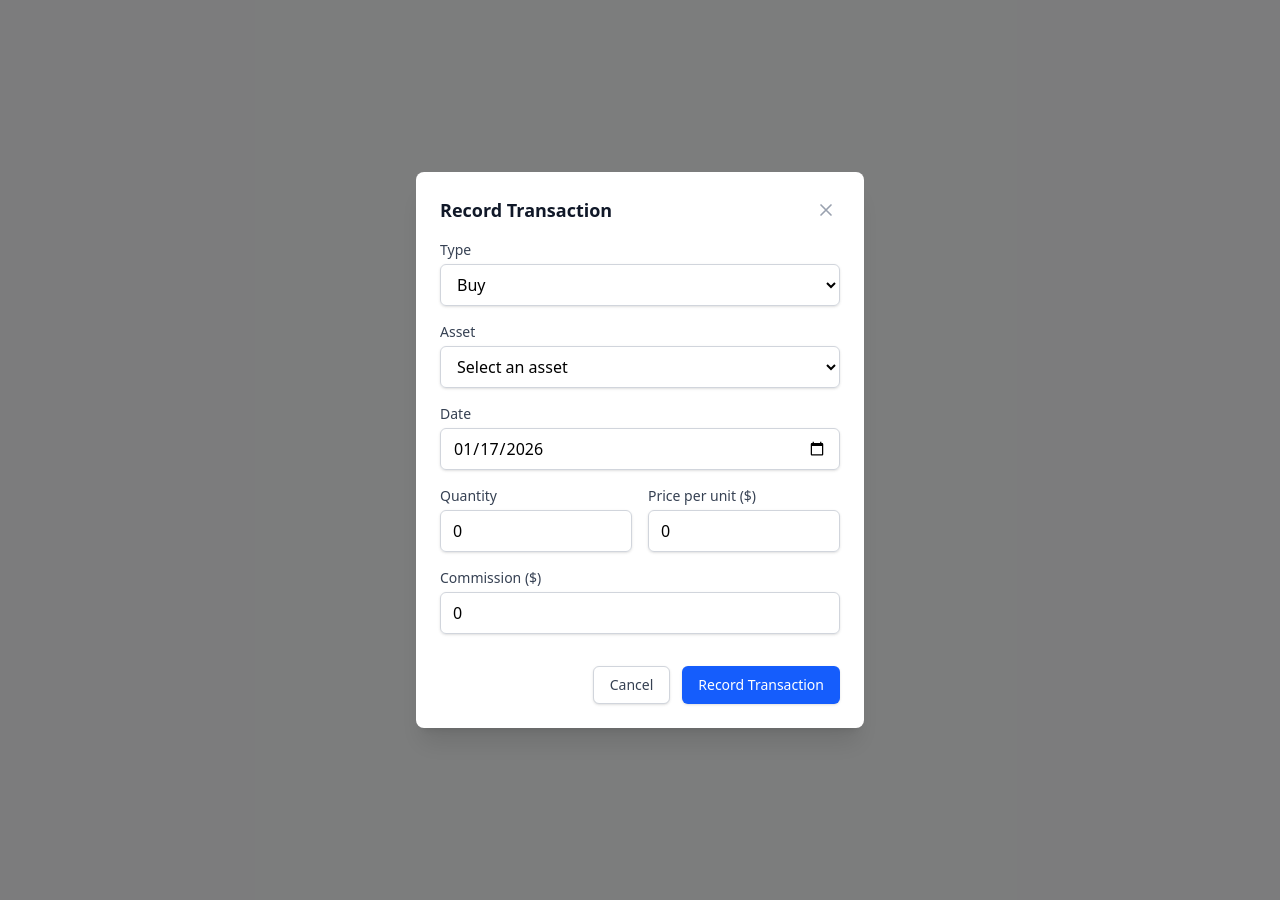
Test: CreateTransactionModal › should show error message on failed submission
The width and height of the screenshot is (1280, 900).
Step 1. Select "Sell" in the dropdown labelled "Type" → (640, 285), box x1=440 y1=264 x2=840 y2=306
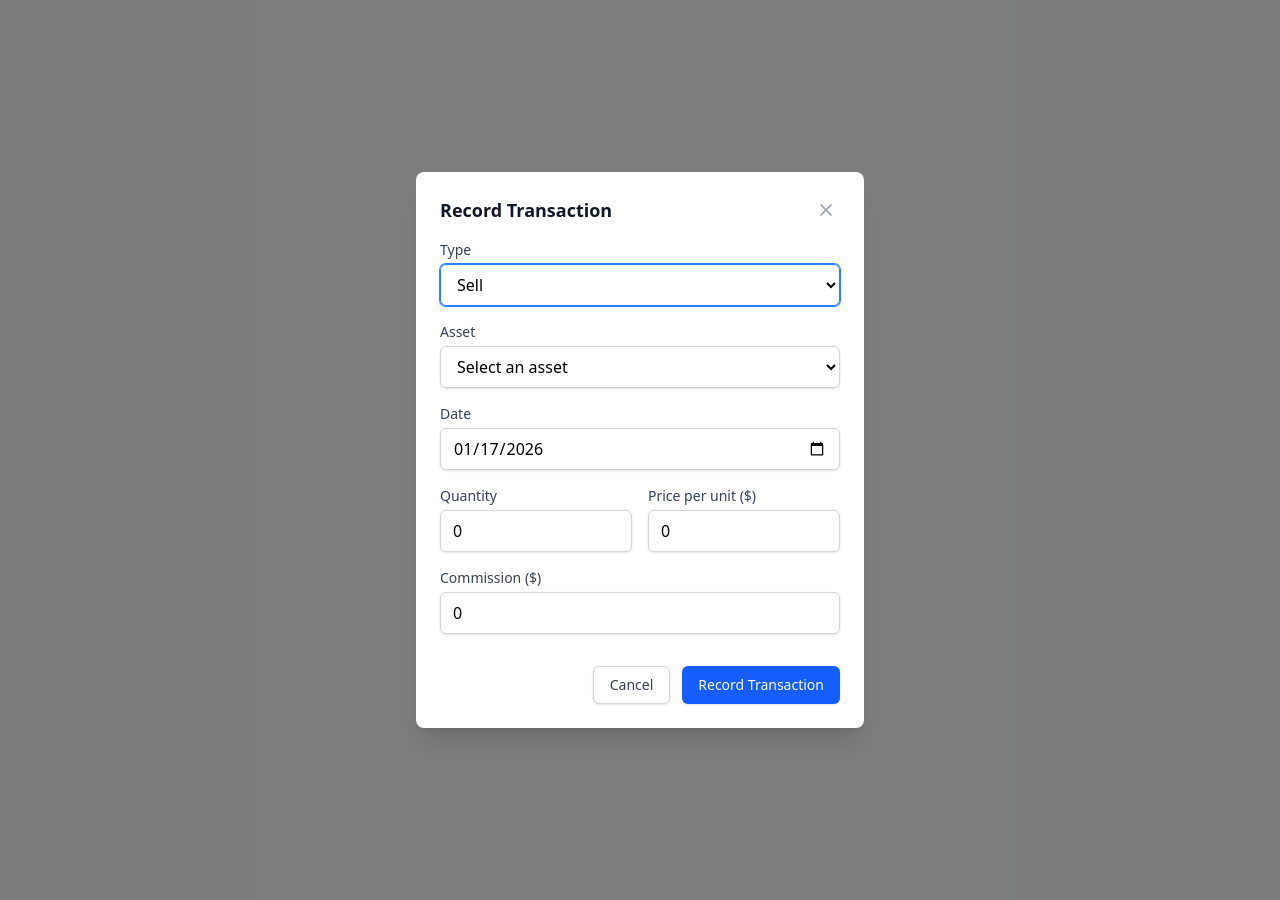
Step 2. Select "VOO - Vanguard S&P 500 ETF" in the dropdown labelled "Asset" → (640, 367), box x1=440 y1=346 x2=840 y2=388
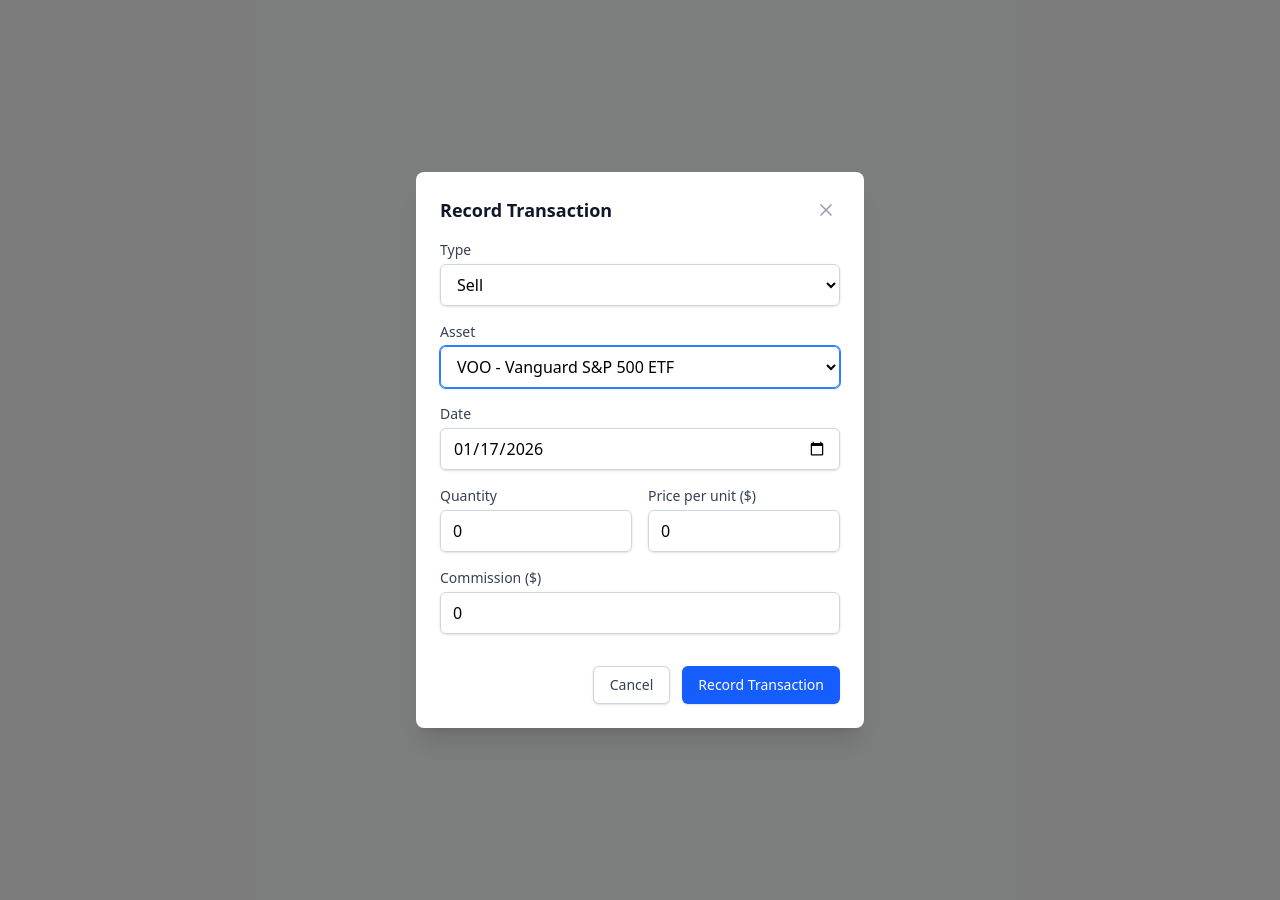
Step 3. Replace the text in the number field labelled "Quantity" with "1000" → (536, 531), box x1=440 y1=510 x2=632 y2=552
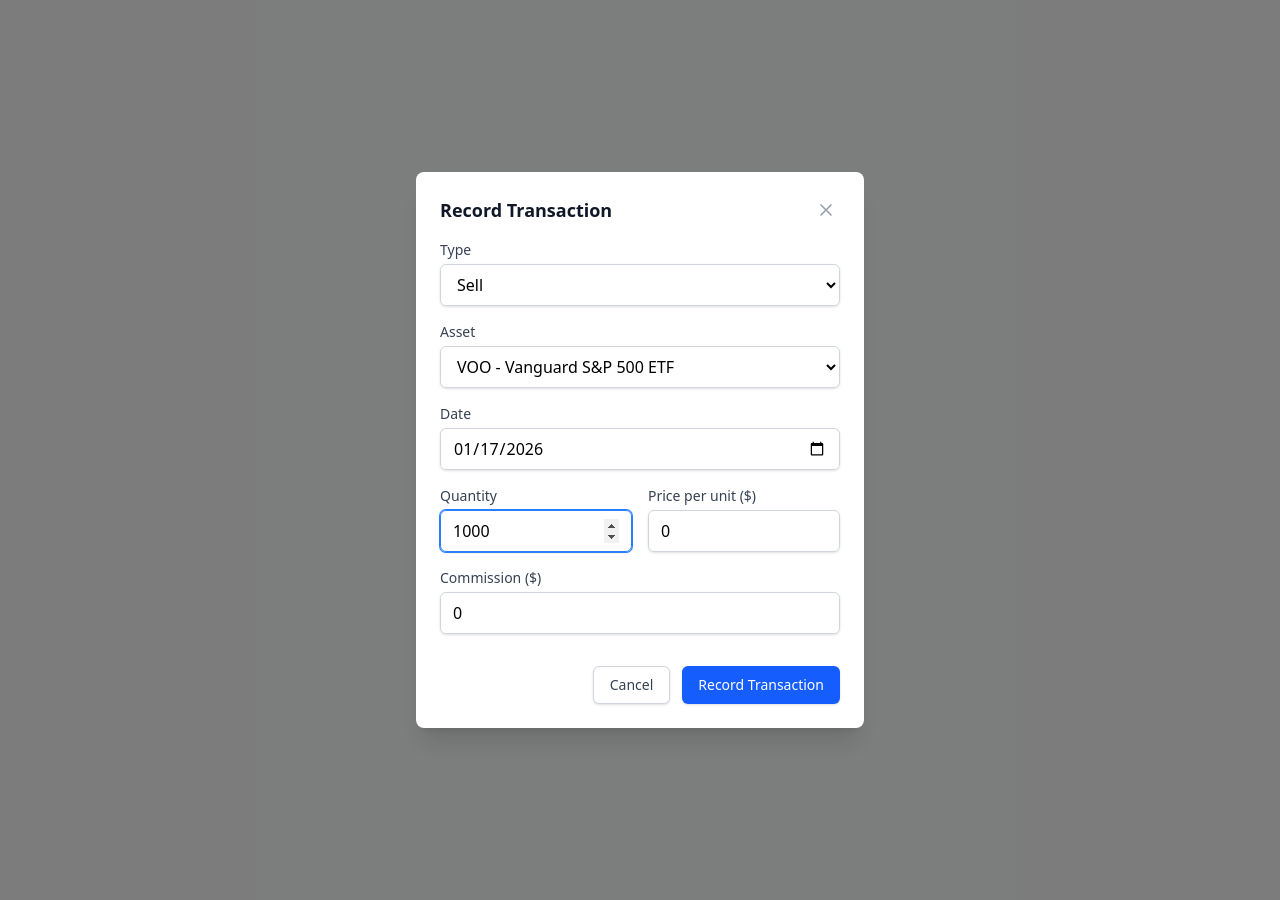
Step 4. Replace the text in the number field labelled "Price per unit ($)" with "150" → (744, 531), box x1=648 y1=510 x2=840 y2=552
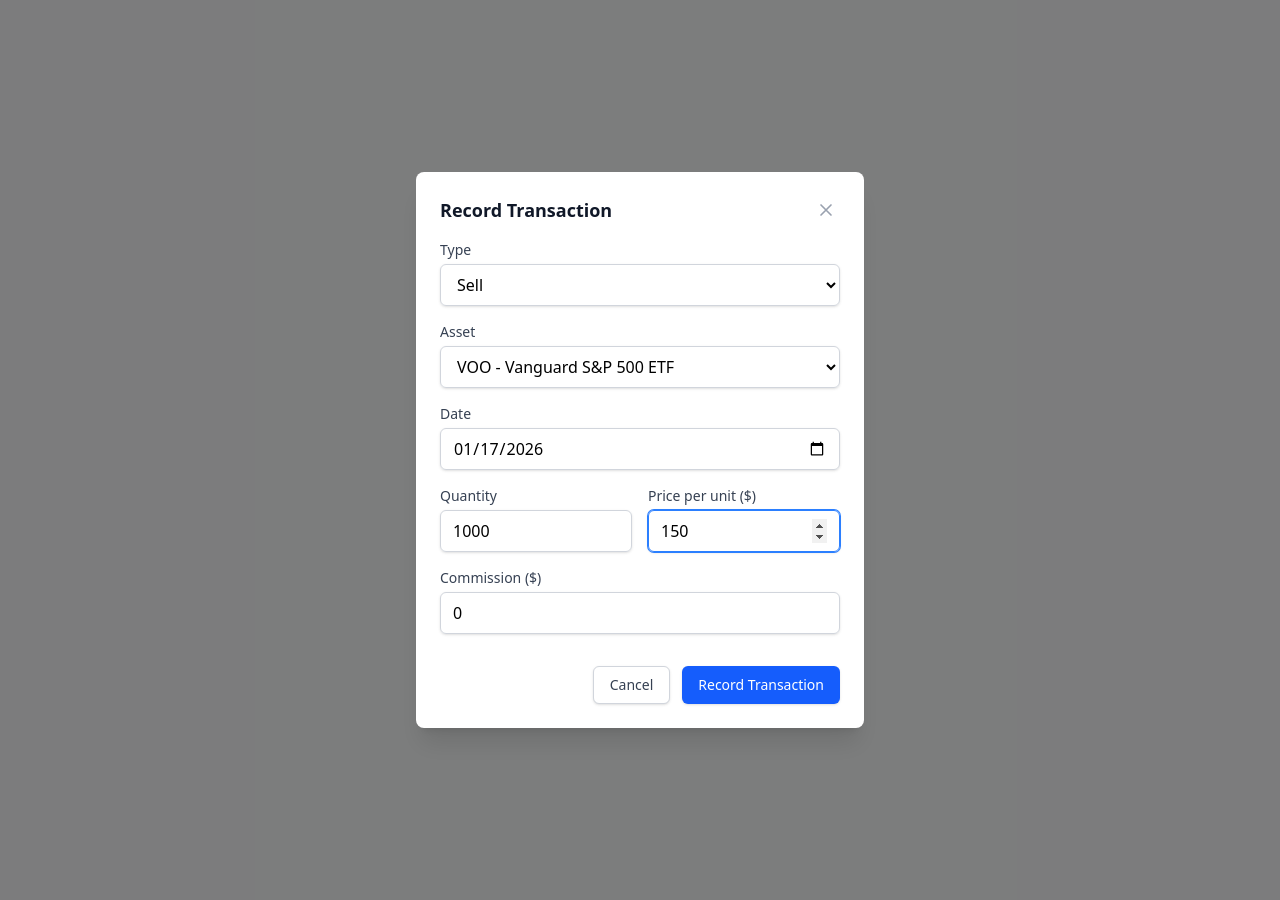
Step 5. Click the button "Record Transaction" → (761, 685), box x1=682 y1=666 x2=840 y2=704
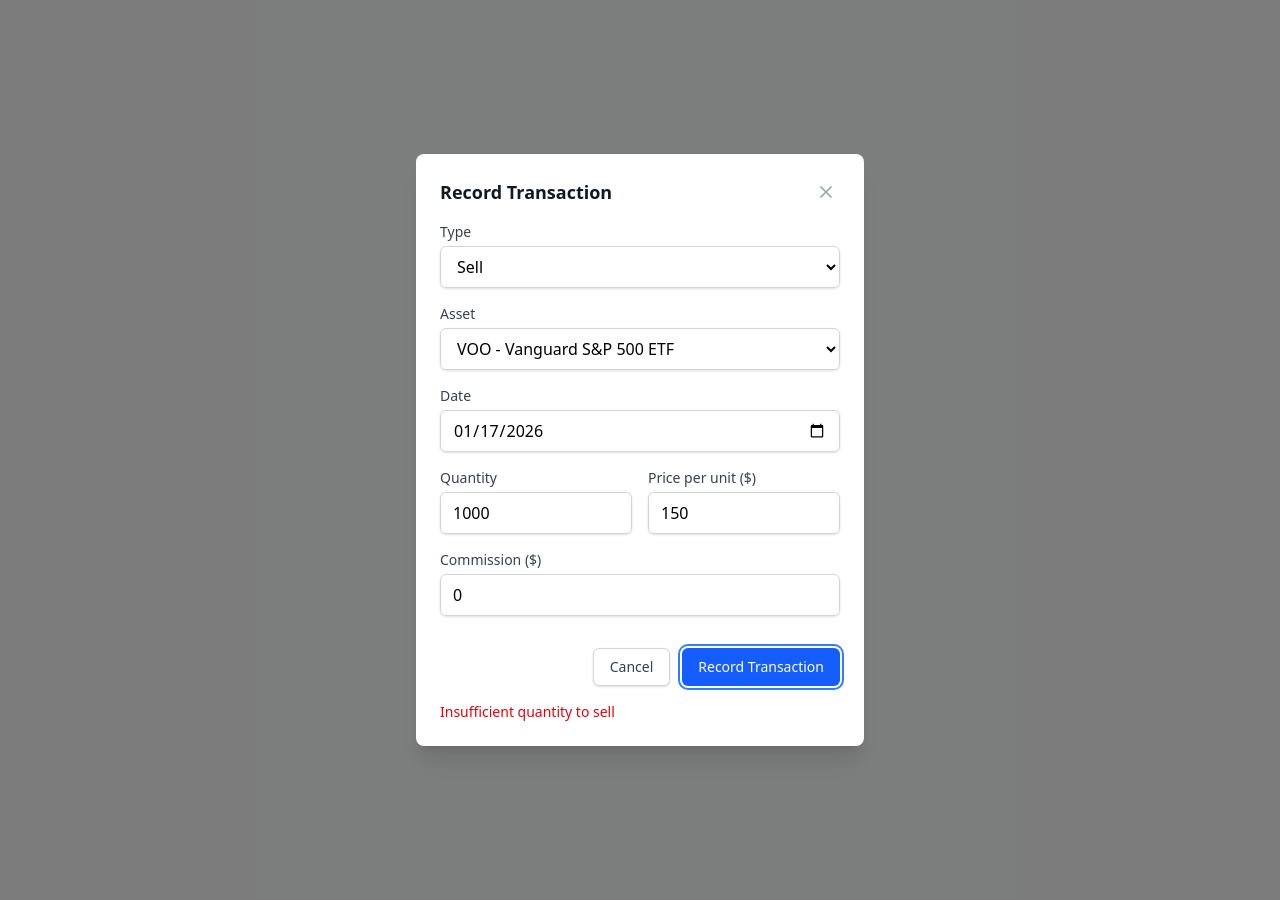
expect the text "Insufficient quantity to sell" is shown: met, box x1=440 y1=702 x2=615 y2=721
